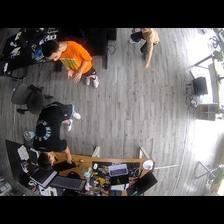normal: (31, 101, 81, 165), (41, 37, 101, 90), (125, 28, 165, 68)
